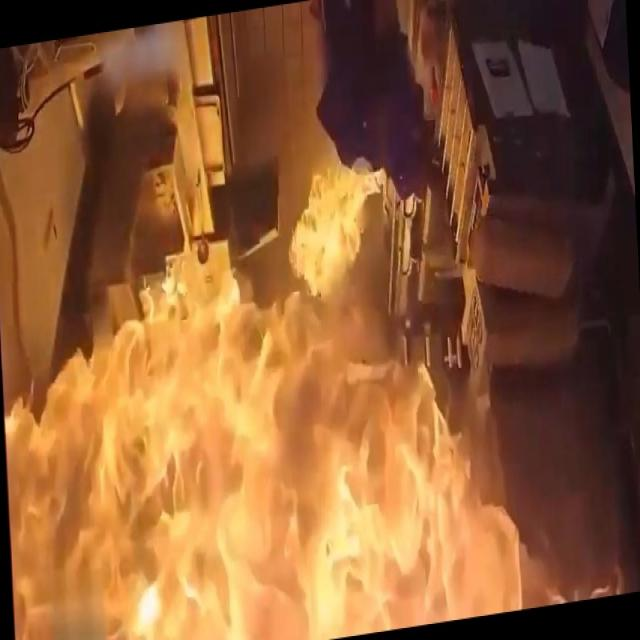fire: (0, 180, 558, 640)
